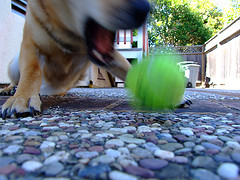tennis ball: (121, 50, 193, 113)
